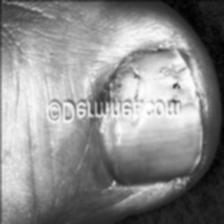Toxin: (97, 46, 198, 128)
